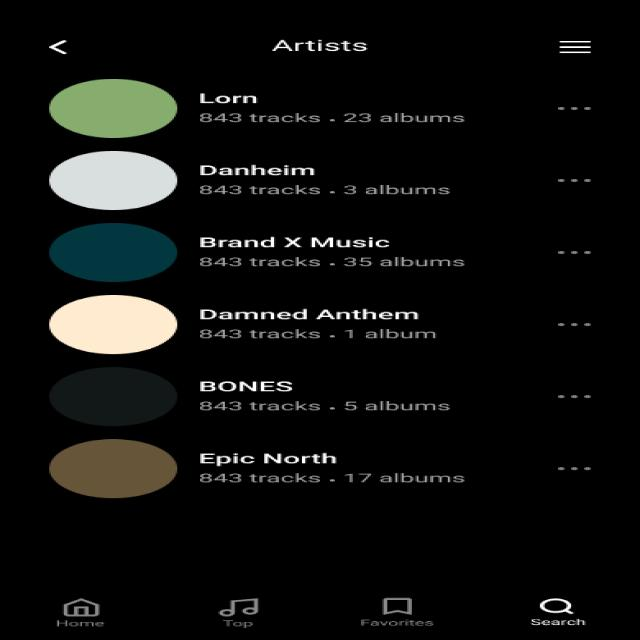icon button: (512, 593, 610, 640), (195, 587, 286, 636), (40, 592, 134, 637), (355, 592, 447, 637), (532, 22, 610, 68), (522, 231, 610, 269), (539, 448, 615, 488), (532, 160, 610, 197), (37, 23, 95, 66), (539, 90, 607, 126), (539, 310, 609, 344), (546, 382, 618, 413)
row: (17, 146, 628, 213), (24, 364, 630, 431), (20, 437, 633, 503), (20, 293, 626, 359), (14, 220, 625, 285), (10, 79, 628, 143), (14, 6, 625, 70)
text: (204, 443, 523, 491), (201, 85, 510, 134), (204, 372, 512, 421), (198, 300, 499, 350), (198, 228, 497, 274), (201, 157, 502, 199), (243, 25, 418, 62)
view: (40, 437, 187, 505), (40, 364, 189, 431), (40, 220, 182, 288), (43, 150, 187, 215), (40, 295, 184, 359), (46, 80, 186, 140)
